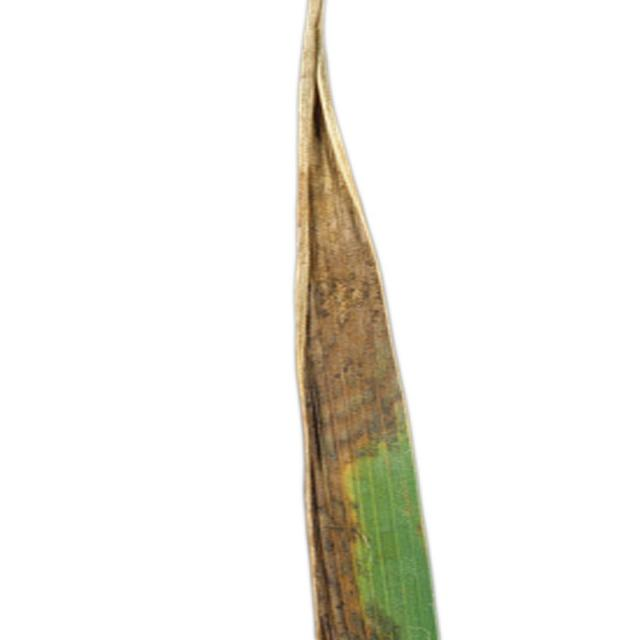Leaf scald: (237, 0, 562, 640)
